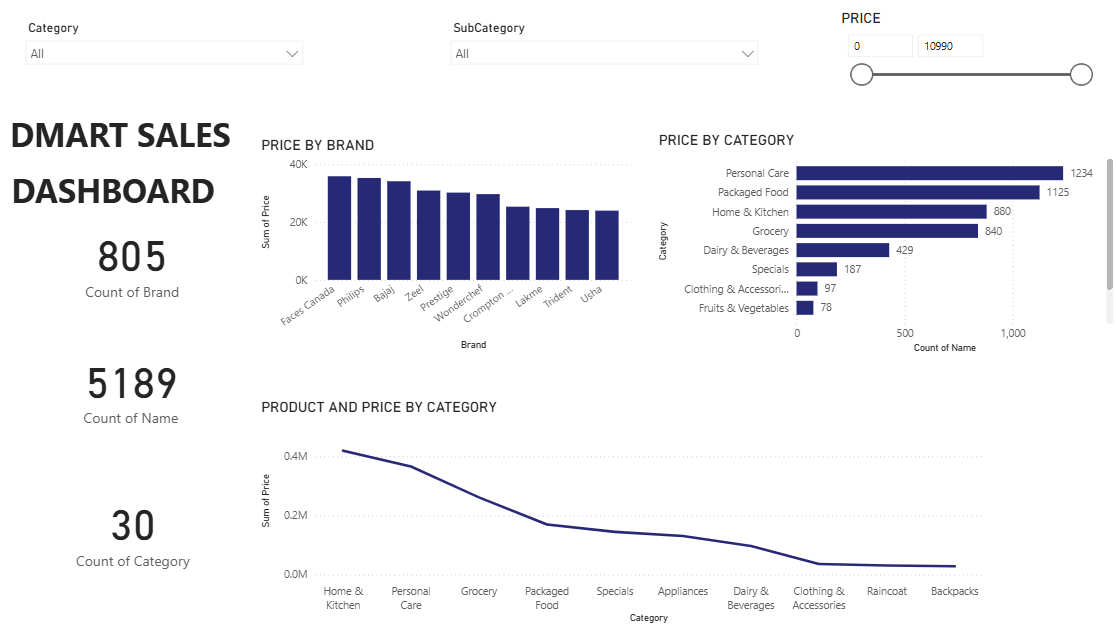

This screenshot's page, from the dashboard's own definition file:
{"tool":"powerbi","page":{"name":"Page 1","canvas":[1280,720],"ordinal":0},"visuals":[{"type":"slicer","fields":{"Values":["Sheet1.Category"]},"box":[21.4,20,337.1,72.9],"z":0},{"type":"slicer","title":"PRICE","fields":{"Values":["Sheet1.Price"]},"box":[959.2,11,300.5,102],"z":1000},{"type":"slicer","fields":{"Values":["Sheet1.SubCategory"]},"box":[507,20.6,371.9,78.2],"z":2000},{"type":"lineChart","title":"PRODUCT AND PRICE BY CATEGORY","fields":{"Category":["Sheet1.Category"],"Y":["Sum(Sheet1.Price)"]},"box":[295.7,457.1,840,262.9],"z":3000},{"type":"barChart","title":"PRICE BY CATEGORY","fields":{"Category":["Sheet1.Category"],"Y":["CountNonNull(Sheet1.Name)"]},"box":[750,151.8,530,260],"z":4000},{"type":"columnChart","title":"PRICE BY BRAND","fields":{"Category":["Sheet1.Brand"],"Y":["Sum(Sheet1.Price)"]},"box":[295.7,156.8,432.9,250],"z":5000},{"type":"card","fields":{"Values":["Count(Sheet1.Category)"]},"box":[32.9,548.6,242.9,118.6],"z":6000},{"type":"card","fields":{"Values":["Count(Sheet1.Brand)"]},"box":[20,244.3,267.1,111.4],"z":7000},{"type":"card","fields":{"Values":["CountNonNull(Sheet1.Name)"]},"box":[32.9,394.3,238.6,101.4],"z":8000},{"type":"textbox","box":[8.6,125.7,278.6,64.3],"z":9000},{"type":"textbox","box":[10,190,278.6,64.3],"z":10000}]}

Visuals, with their boxes in screenshot pixels (x1, y1, x2, y2), scaled from the page's 1280x720 canvas onto the 1116x626 screenshot:
slicer - Sheet1.Category: 19:17:313:81
"PRICE" slicer: 836:10:1098:98
slicer - Sheet1.SubCategory: 442:18:766:86
"PRODUCT AND PRICE BY CATEGORY" lineChart: 258:397:990:625
"PRICE BY CATEGORY" barChart: 654:132:1115:358
"PRICE BY BRAND" columnChart: 258:136:635:354
card - Count(Sheet1.Category): 29:477:240:580
card - Count(Sheet1.Brand): 17:212:250:309
card - CountNonNull(Sheet1.Name): 29:343:237:431
textbox: 7:109:250:165
textbox: 9:165:252:221
